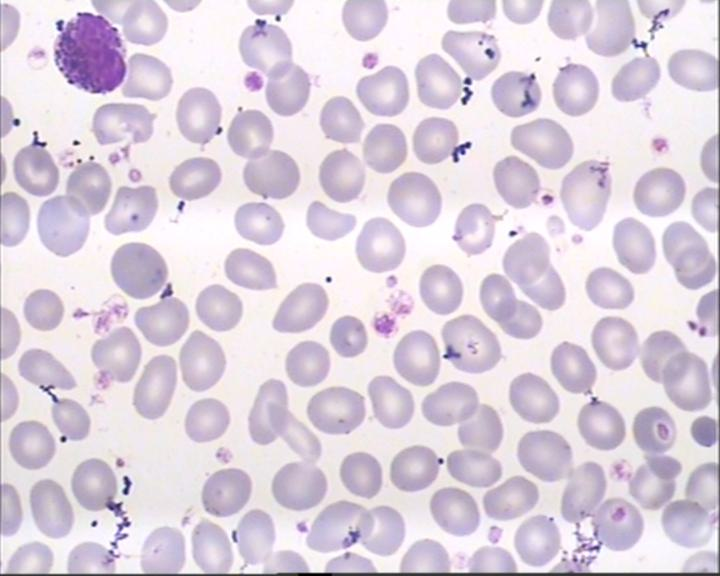baso: (46, 8, 129, 97)
